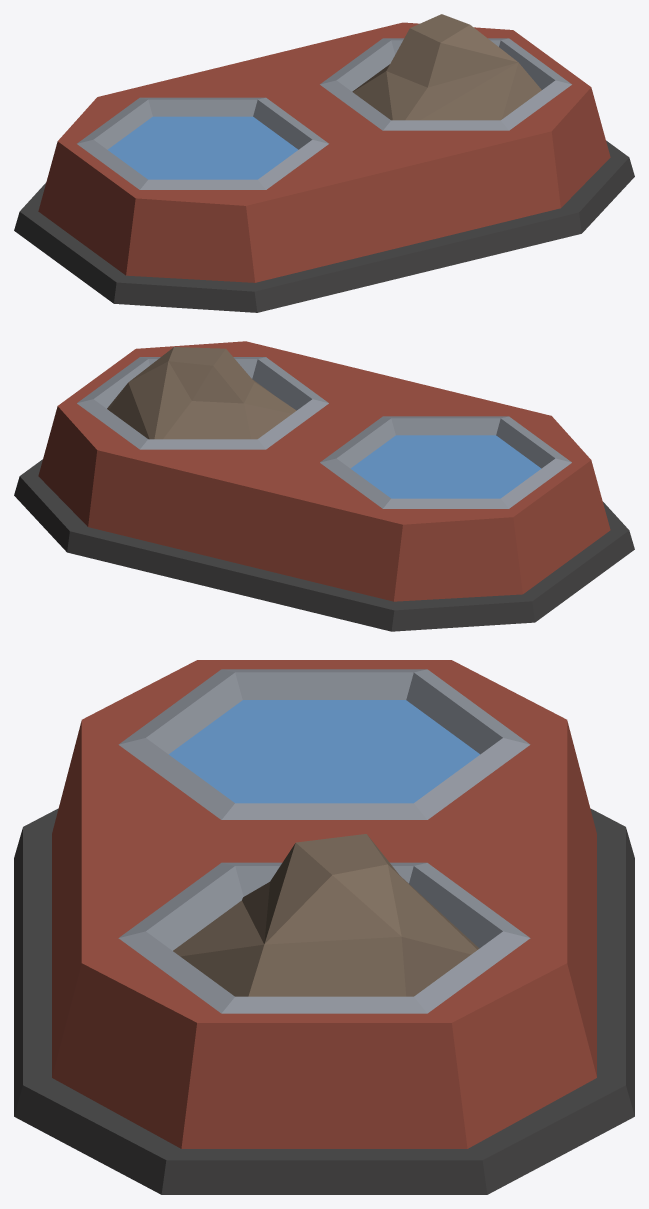
The model's file is SM_Prop_PetBowl_02.fbx.
3 renders of one model, top to bottom at view 1: azimuth 30°, elevation 25°; view 2: azimuth 150°, elevation 25°; view 3: azimuth 270°, elevation 25°, orthographic. The views are drawn at different scales.
Visible parts, largest first — view 1: SM_Prop_PetBowl_02, SM_Prop_PetBowl_02_Food, SM_Prop_PetBowl_02_Water; view 2: SM_Prop_PetBowl_02, SM_Prop_PetBowl_02_Food, SM_Prop_PetBowl_02_Water; view 3: SM_Prop_PetBowl_02, SM_Prop_PetBowl_02_Food, SM_Prop_PetBowl_02_Water.
Boxes of the visible parts, <box> form: SM_Prop_PetBowl_02: <box>14,22,634,312</box>; SM_Prop_PetBowl_02_Food: <box>352,14,541,120</box>; SM_Prop_PetBowl_02_Water: <box>107,116,298,179</box>; SM_Prop_PetBowl_02: <box>14,341,634,631</box>; SM_Prop_PetBowl_02_Food: <box>107,347,296,439</box>; SM_Prop_PetBowl_02_Water: <box>350,435,541,498</box>; SM_Prop_PetBowl_02: <box>14,660,634,1194</box>; SM_Prop_PetBowl_02_Food: <box>173,834,479,996</box>; SM_Prop_PetBowl_02_Water: <box>169,700,479,803</box>.
Bounding box in the file's own units: 56.89 × 14.82 × 35.98.
